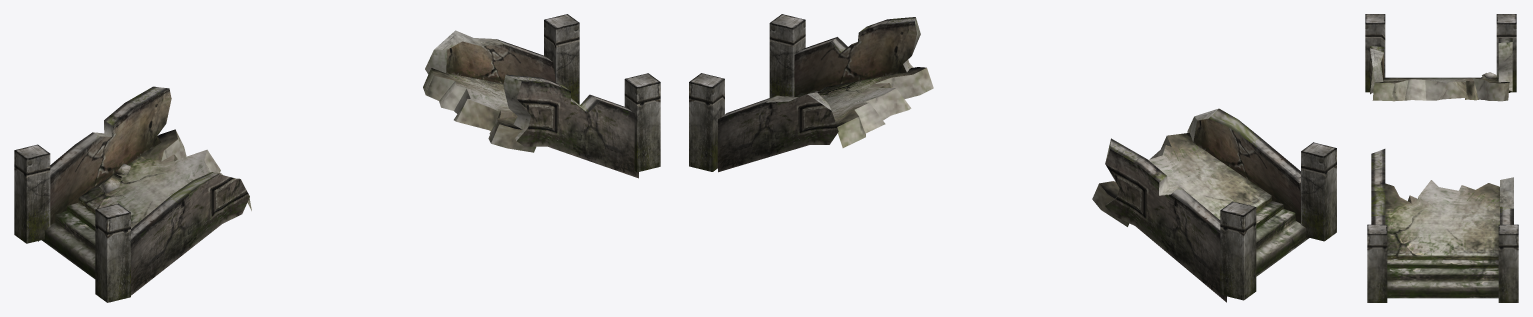
The model's file is STR_BridgeStoneB.FBX.
3 views of the same model, side by side, from view 1: azimuth 30°, elevation 25°; view 2: azimuth 150°, elevation 25°; view 3: azimuth 270°, elevation 25° (orthographic). The views are drawn at different scales.
Parts seen in each view (by area): view 1: STR_StoneBridgeB; view 2: STR_StoneBridgeB; view 3: STR_StoneBridgeB.
Boxes of the visible parts, x1,y1,x2,y2 form: STR_StoneBridgeB: [14, 14, 660, 302]; STR_StoneBridgeB: [689, 14, 1336, 302]; STR_StoneBridgeB: [1365, 14, 1518, 302].
Size of the model in its own units: 2057 by 454 by 606.
